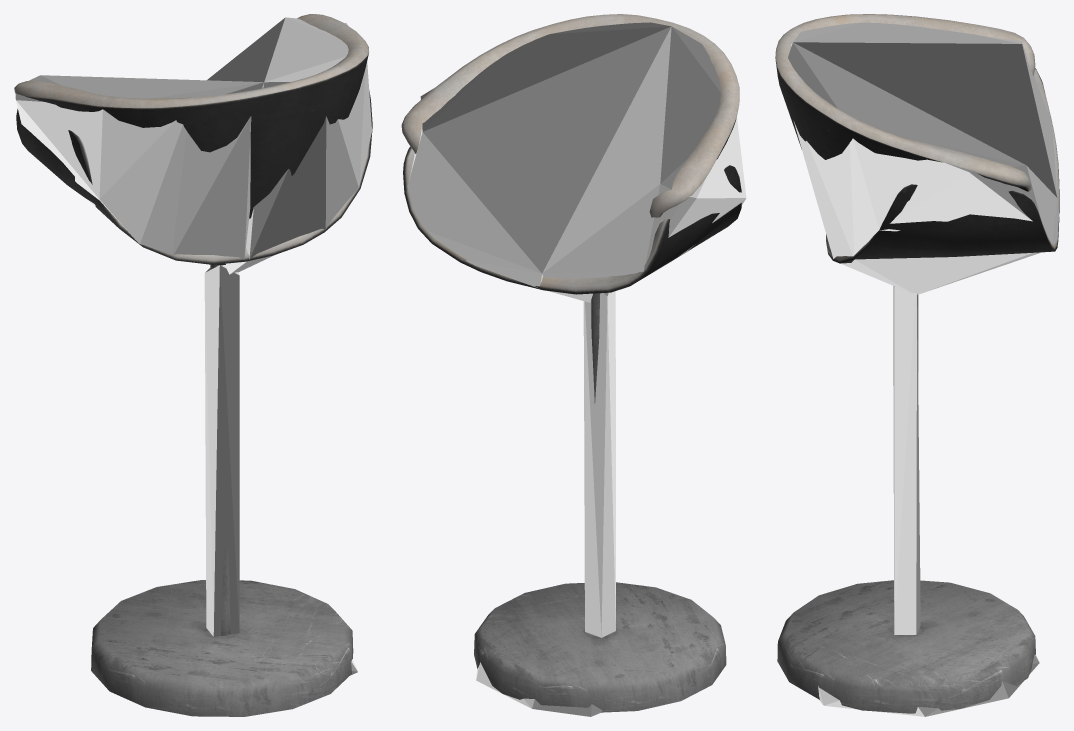
The model's file is SM_Small_Chair.fbx.
3 renders of one model, left to right at view 1: azimuth 30°, elevation 25°; view 2: azimuth 150°, elevation 25°; view 3: azimuth 270°, elevation 25°, orthographic. The views are drawn at different scales.
Visible parts, largest first — view 1: SM_Small_Chair_ConvexHulls, SM_Small_Chair_LOD0; view 2: SM_Small_Chair_ConvexHulls, SM_Small_Chair_LOD0; view 3: SM_Small_Chair_ConvexHulls, SM_Small_Chair_LOD0.
Part boxes in pixels (x1,y1,x2,y2): SM_Small_Chair_ConvexHulls: [15, 17, 371, 675]; SM_Small_Chair_LOD0: [14, 14, 372, 716]; SM_Small_Chair_ConvexHulls: [407, 22, 746, 716]; SM_Small_Chair_LOD0: [401, 14, 741, 712]; SM_Small_Chair_ConvexHulls: [788, 22, 1059, 716]; SM_Small_Chair_LOD0: [775, 14, 1059, 713].
Size of the model in its own units: 67.24 by 54.87 by 130.
